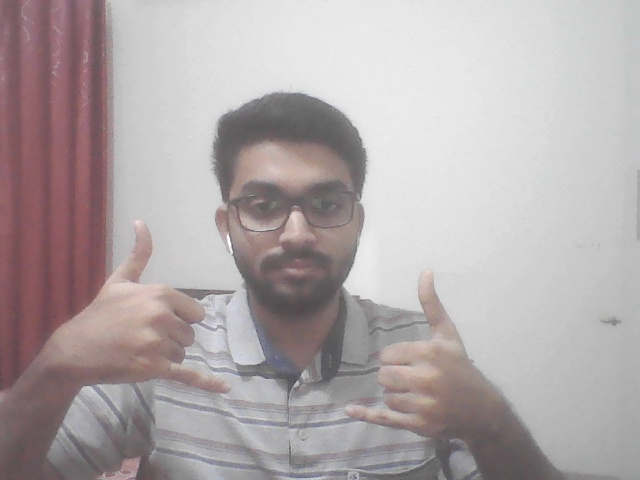play: (57, 214, 500, 465)
